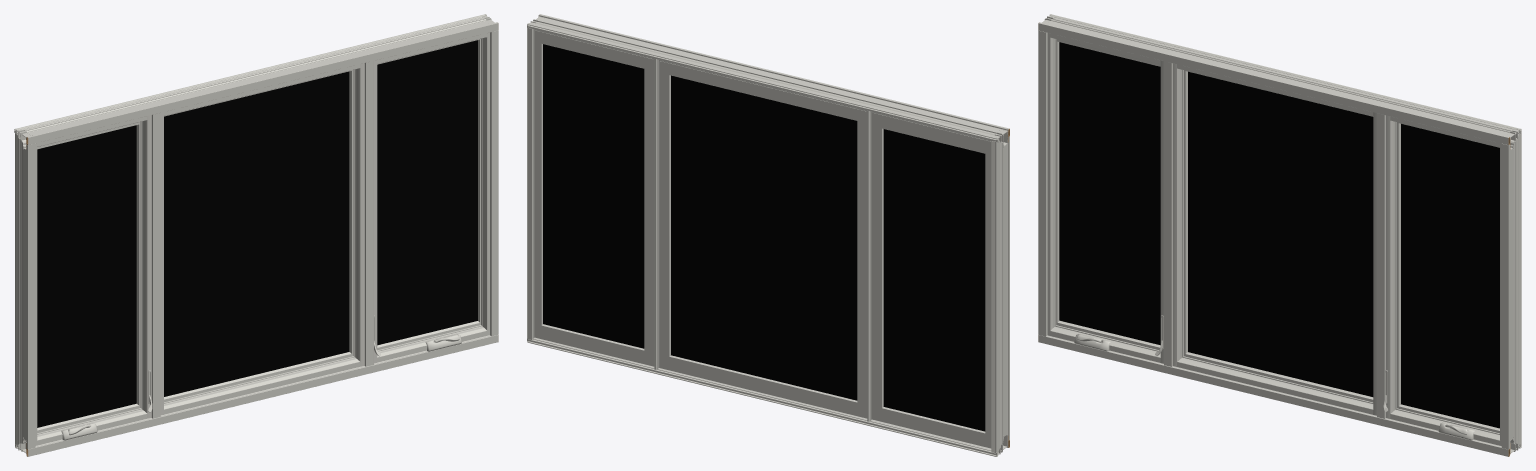
File: 21_W_CasementTriple121.glb
The picture shows the model from 3 angles, left to right: view 1: azimuth 30°, elevation 25°; view 2: azimuth 150°, elevation 25°; view 3: azimuth 330°, elevation 25°; orthographic projection.
Visible parts, largest first — view 1: 21_W_Glass, 21_W_Interior, 21_W_Exterior, 21_W_Hardware; view 2: 21_W_Glass, 21_W_Exterior, 21_W_Interior; view 3: 21_W_Glass, 21_W_Interior, 21_W_Exterior, 21_W_Hardware.
Part boxes in pixels (x1,y1,x2,y2): 21_W_Glass: (37, 40, 477, 427); 21_W_Interior: (20, 19, 498, 456); 21_W_Exterior: (14, 14, 494, 452); 21_W_Hardware: (61, 315, 461, 440); 21_W_Glass: (543, 44, 985, 431); 21_W_Exterior: (527, 17, 1007, 456); 21_W_Interior: (538, 14, 1009, 447); 21_W_Glass: (1059, 42, 1499, 428); 21_W_Interior: (1038, 19, 1516, 456); 21_W_Exterior: (1042, 14, 1521, 453); 21_W_Hardware: (1074, 315, 1474, 440).
Bounding box in the file's own units: 84.14 × 54.53 × 4.71.
5 materials, 5 textured.
